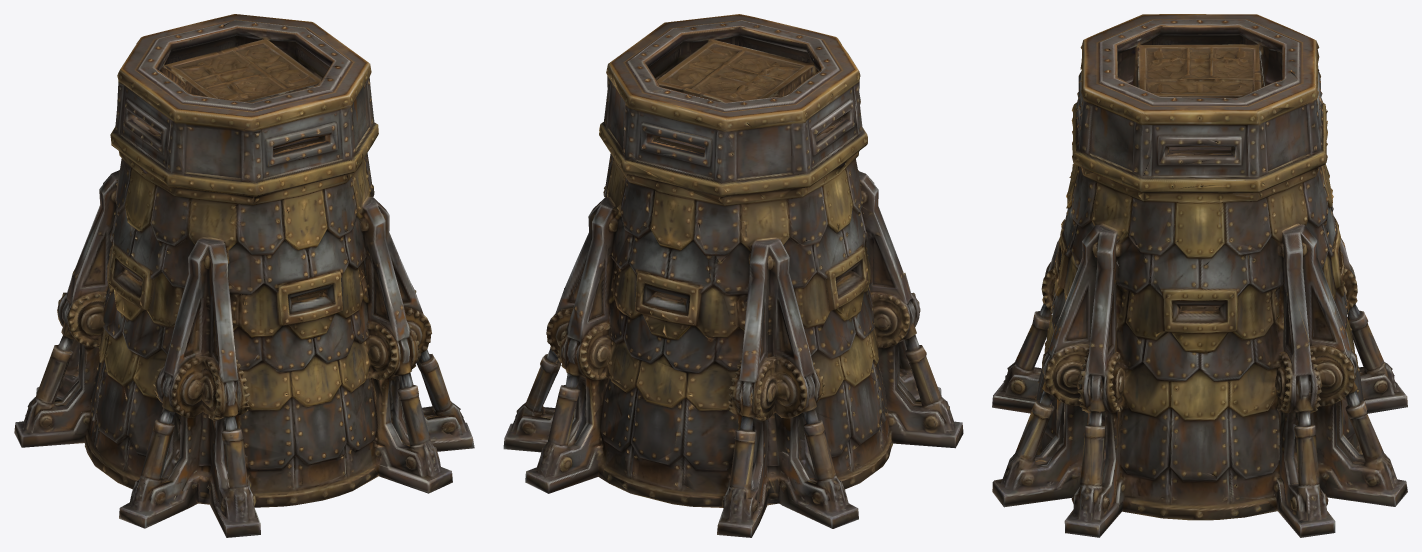
File: barricade_meshy_v01_prepared.fbx
3 views of the same model, side by side, from view 1: azimuth 30°, elevation 25°; view 2: azimuth 150°, elevation 25°; view 3: azimuth 270°, elevation 25° (orthographic). The views are drawn at different scales.
Parts seen in each view (by area): view 1: Mesh1.0; view 2: Mesh1.0; view 3: Mesh1.0.
Boxes of the visible parts, x1,y1,x2,y2 form: Mesh1.0: [14, 14, 474, 537]; Mesh1.0: [503, 14, 963, 537]; Mesh1.0: [992, 14, 1407, 537].
Size of the model in its own units: 120 by 125 by 120.
